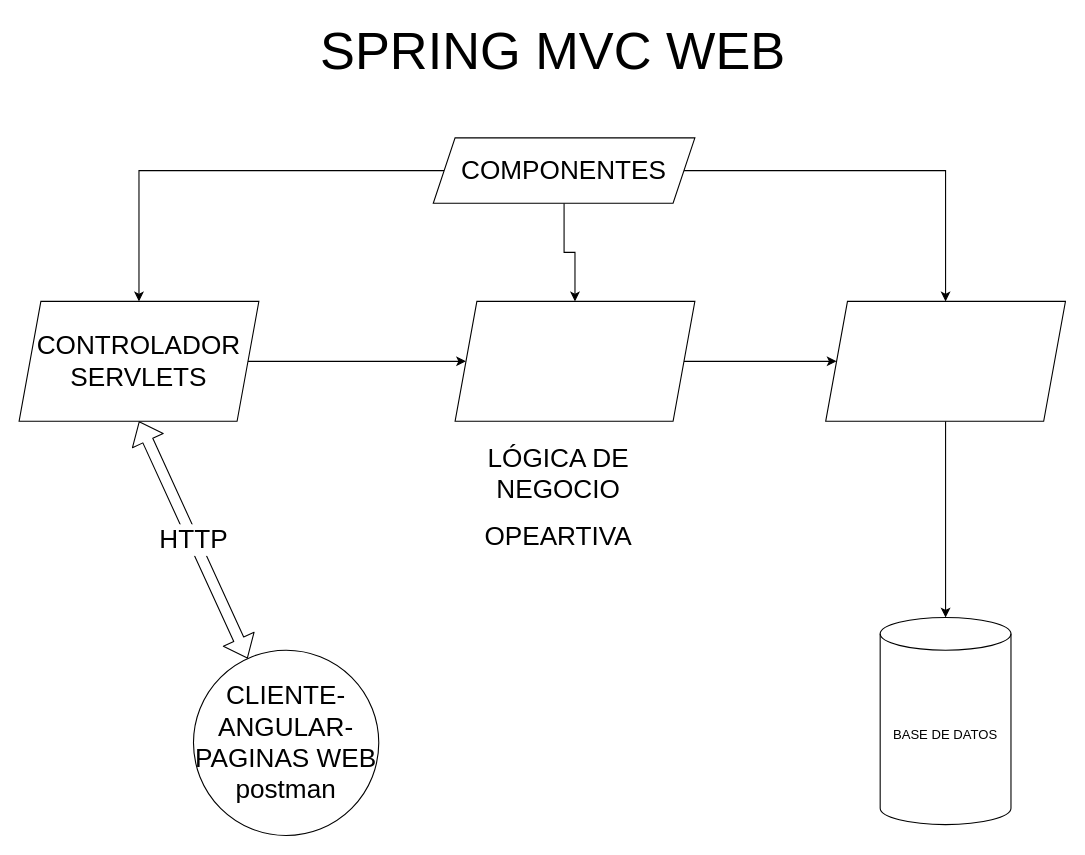
Some shapes in this 1085 by 855 pixel diagram are drawn without their labels. The shapes that lost their labels are listed below. From the top down, each one's centre as x and y in pixels, then its label:
(574,360): SERVICIO trabajo
(945,360): REPOSITORIO
